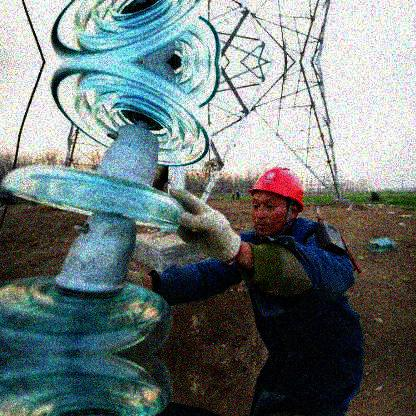helmet: (244, 166, 305, 241)
